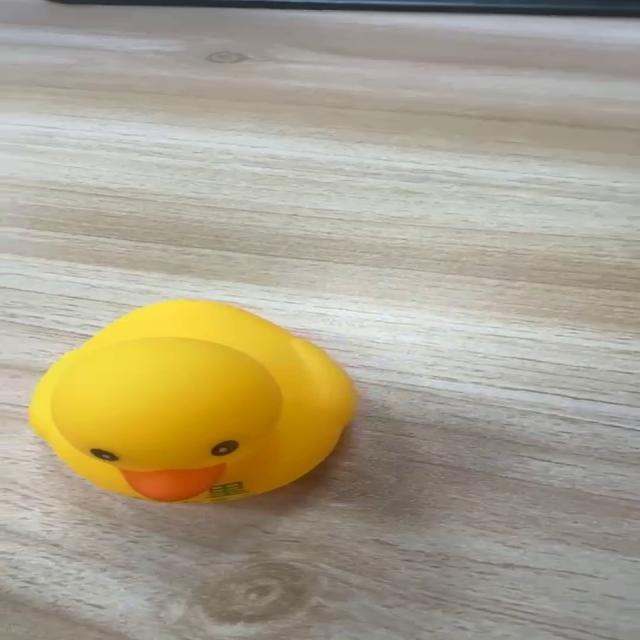yellow_duck: (26, 296, 358, 504)
